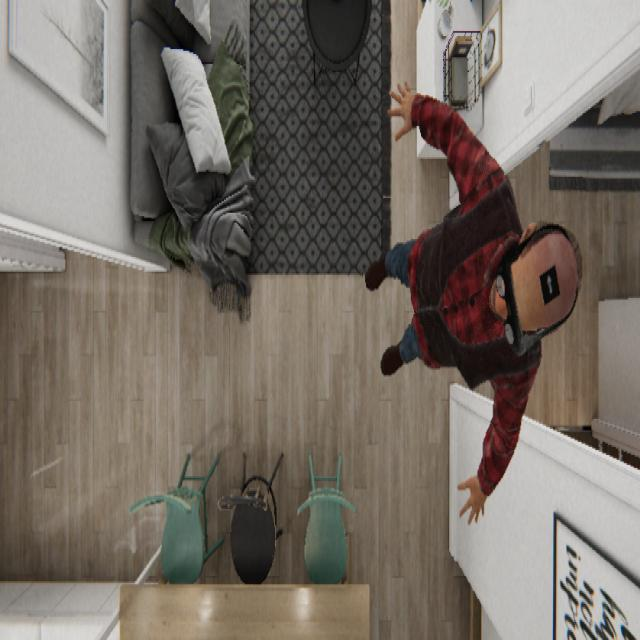Human: (364, 79, 583, 524)
UnityLogo: (507, 219, 583, 342), (538, 260, 560, 306)
